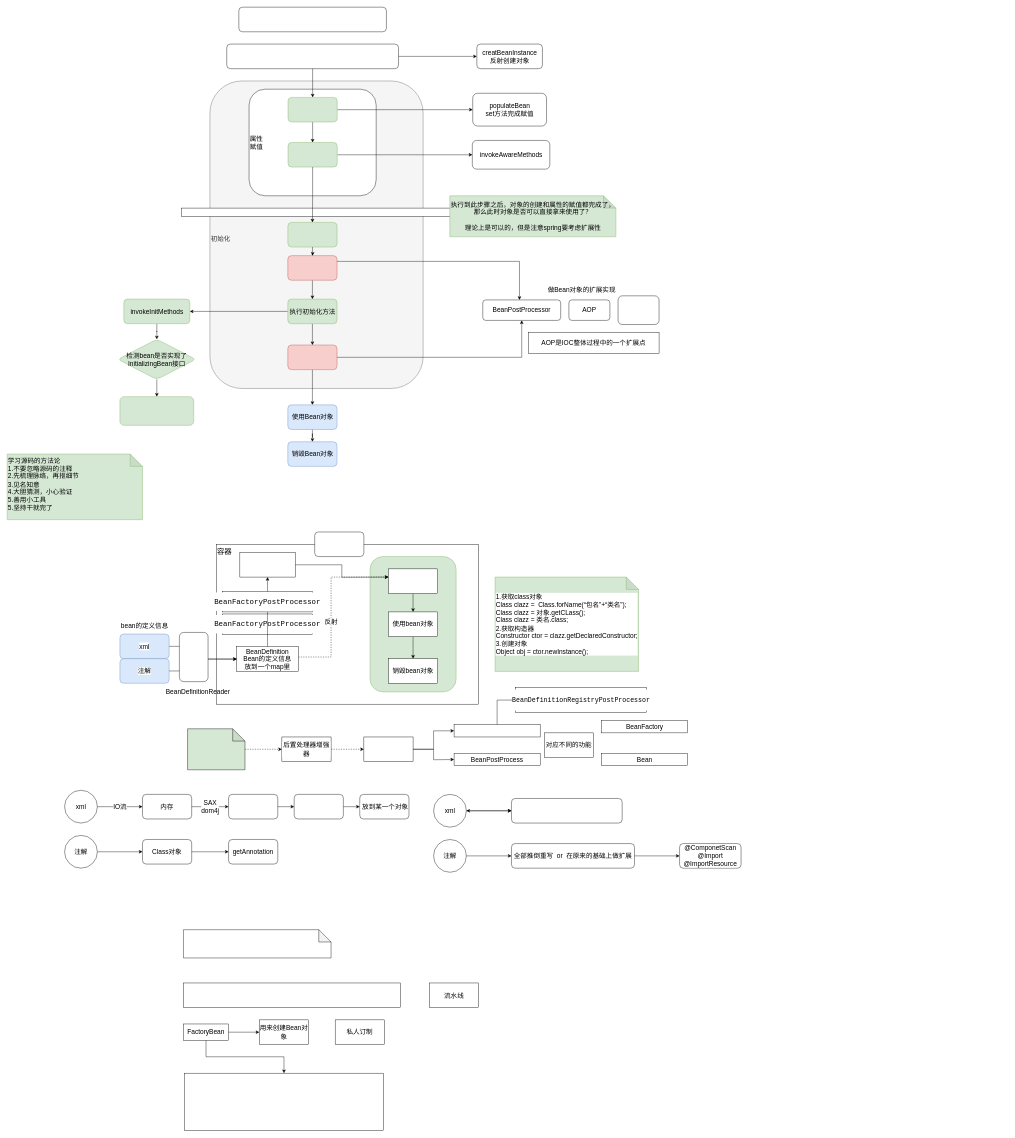
The diagram is 1015 pixels wide and 1138 high, and some of its shapes have lost their labels. Each missing label, with the centre of its shape:
"BeanFactory 约等于容器" goes at point (339, 544).
"BeanFactory:并不是指接口，而是Bean对象创建的整体流程，Bean的生命周期是一个完整的流程，相对比较麻烦" goes at point (292, 995).
"BeanFactoryPostProcess" goes at point (497, 730).
"BeanFactory和FactoryBean的区别" goes at point (257, 943).
"document" goes at point (253, 806).
"isSingleton:判断是否是单例对象 getObjectType:获取返回对象的类型 getObject:创建对象" goes at point (283, 1102).
"node" goes at point (318, 806).
"postProcess" goes at point (216, 749).
"创建bean对象" goes at point (413, 580).
"动态代理 jdk cglib" goes at point (638, 310).
"完整的Bean对象" goes at point (267, 564).
"实例化：在堆空间申请空间，对象的属性值一般是默认值 反射创建对象的过程" goes at point (312, 56).
"容器对象属性赋值" goes at point (312, 154).
"执行前置执行方法" goes at point (312, 267).
"执行后置执行方法" goes at point (312, 357).
"接口 约束、规范" goes at point (193, 657).
"提供某些额外的扩展功能" goes at point (388, 749).
"标准的解析处理流程" goes at point (566, 810).
"生命周期：从对象的创建使用到销毁的过程" goes at point (312, 19).
"自定义属性赋值" goes at point (312, 109).
"获得普通对象是否需要进行扩展" goes at point (312, 234).
"调用 afterPropertiesSet 方法" goes at point (157, 410).
